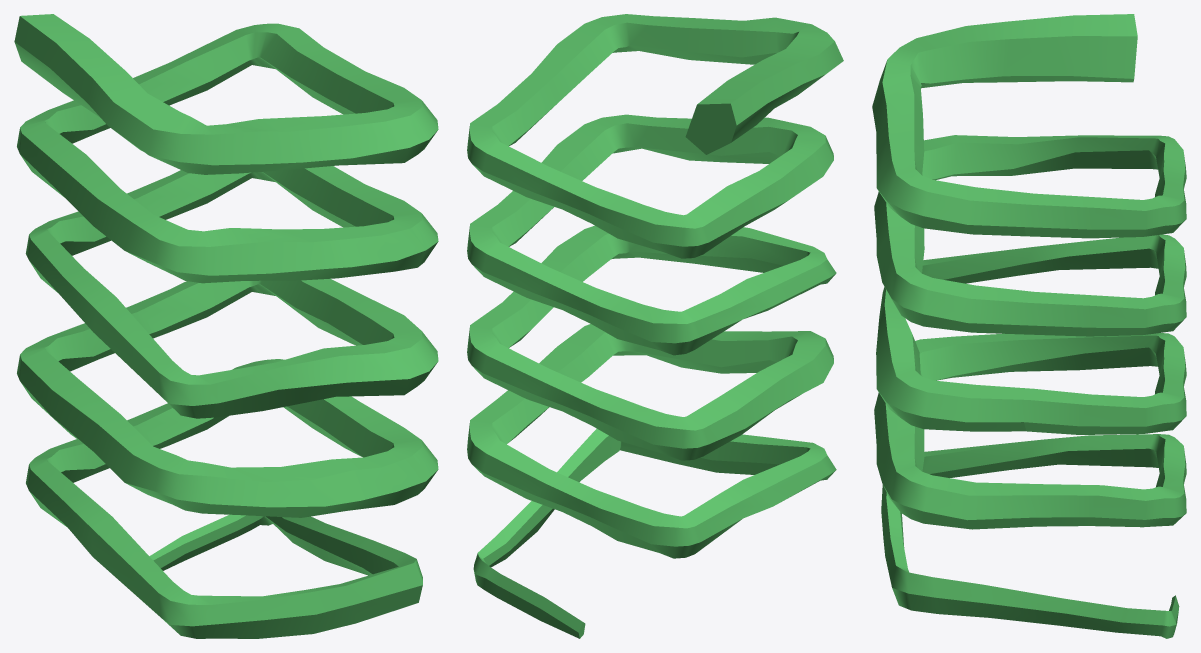
The model's file is roots_solo_D_A.fbx.
3 views of the same model, side by side, from view 1: azimuth 30°, elevation 25°; view 2: azimuth 150°, elevation 25°; view 3: azimuth 270°, elevation 25° (orthographic). The views are drawn at different scales.
Parts seen in each view (by area): view 1: roots_solo_D_A; view 2: roots_solo_D_A; view 3: roots_solo_D_A.
Boxes of the visible parts, x1=… form: roots_solo_D_A: x1=14, y1=14, x2=438, y2=638; roots_solo_D_A: x1=467, y1=14, x2=843, y2=638; roots_solo_D_A: x1=872, y1=14, x2=1186, y2=638.
Size of the model in its own units: 84.89 by 162 by 85.81.
